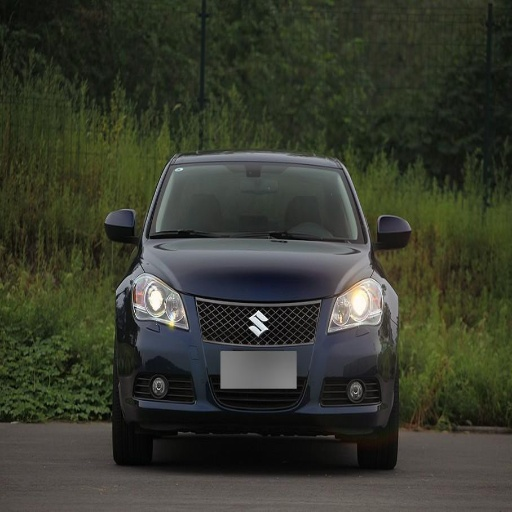front_bumper: (118, 291, 392, 437)
front_right_light: (132, 275, 188, 329)
hood: (143, 238, 371, 300)
left_mirror: (375, 216, 413, 250)
